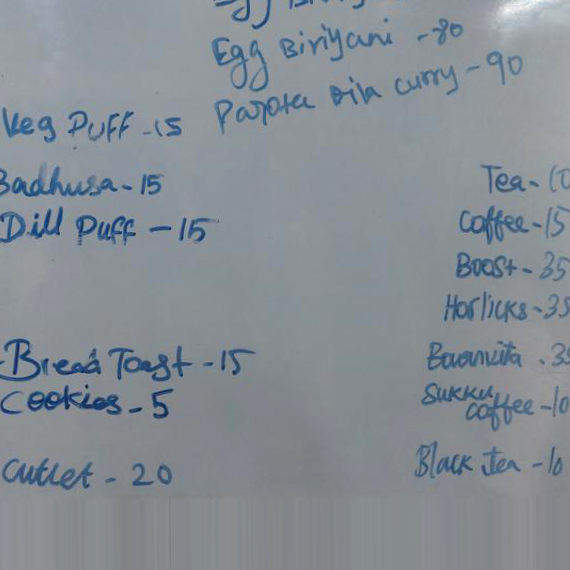Tea - 10: (471, 159, 570, 200)
badhusa -15: (1, 163, 179, 206)
black tea - 10: (412, 437, 570, 488)
boost - 35: (456, 248, 570, 285)
bournvita - 35: (423, 334, 570, 380)
bread toast - 15: (1, 336, 261, 381)
coffee - 15: (455, 206, 570, 240)
cookies - 5: (1, 378, 179, 423)
cutlet - 20: (1, 447, 178, 495)
dill puff - 15: (1, 203, 226, 251)
egg briyani - 80: (200, 26, 410, 70)
horlicks - 35: (441, 287, 570, 328)
parotta - 90: (209, 70, 462, 133)
sukku coffee - 10: (418, 379, 570, 435)
veg puff - 15: (2, 100, 189, 151)
